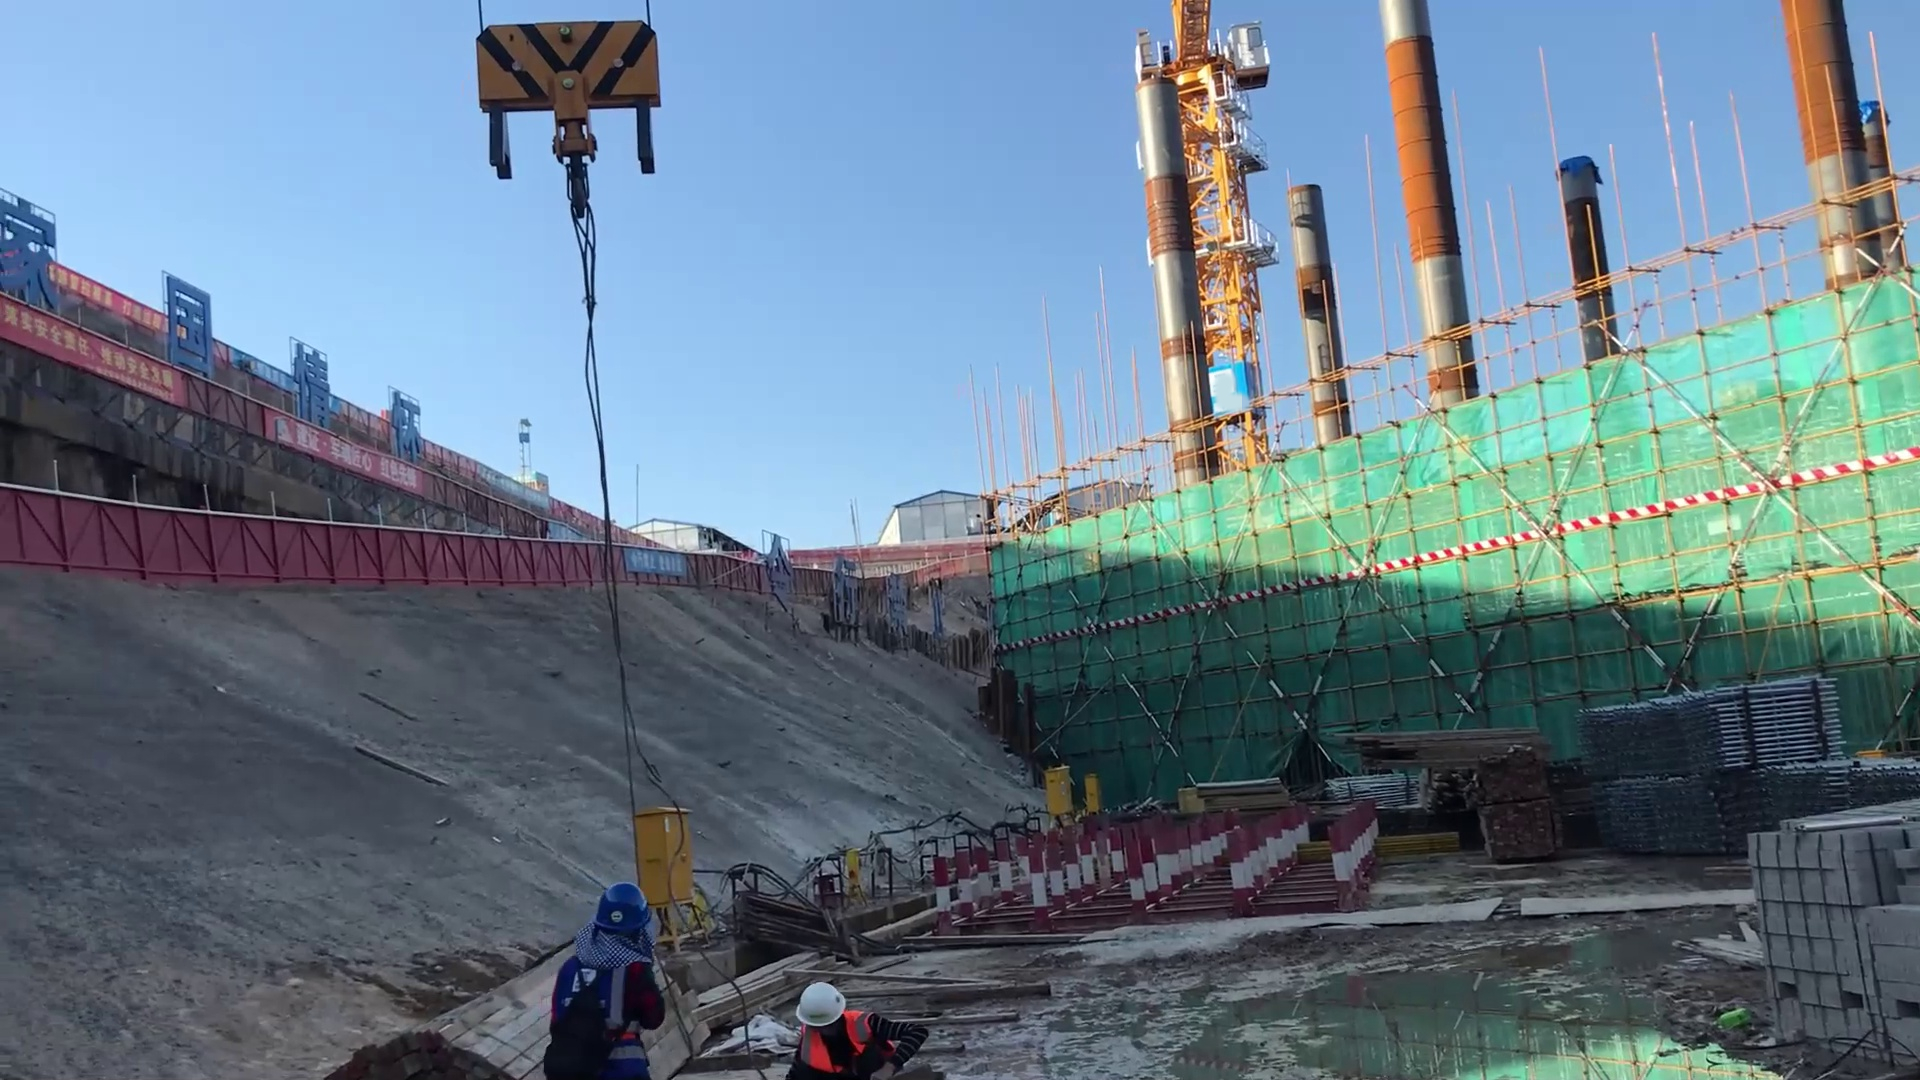brick: (1736, 815, 1920, 1052)
ebox: (637, 807, 708, 900), (1041, 760, 1076, 812), (1082, 772, 1102, 809)
fence: (8, 487, 488, 602), (491, 535, 741, 593)
helmet: (588, 878, 656, 938), (789, 978, 854, 1035)
hook: (477, 9, 662, 200)
person: (540, 875, 674, 1080), (774, 971, 941, 1080)
scaffold: (1682, 685, 1847, 763), (1595, 772, 1740, 857), (1576, 686, 1682, 777)
wood: (1330, 718, 1544, 765)
